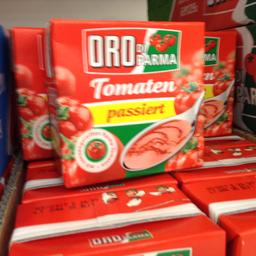tomato_sauce: (44, 18, 204, 188)
